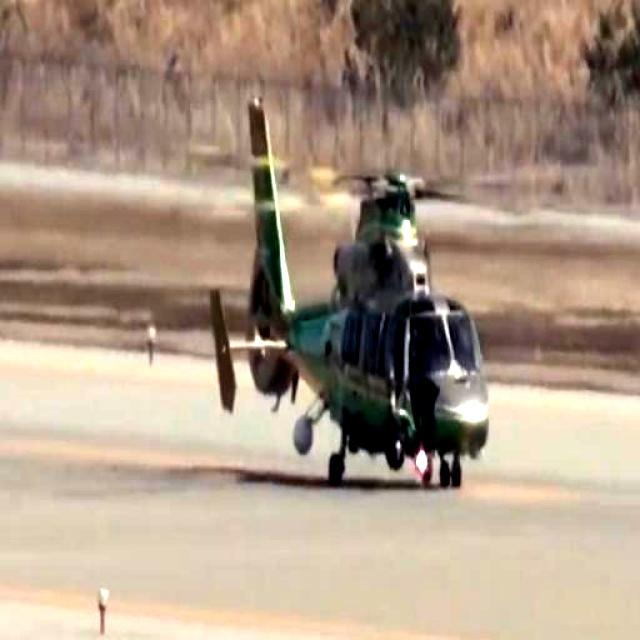drone: (198, 92, 542, 528)
